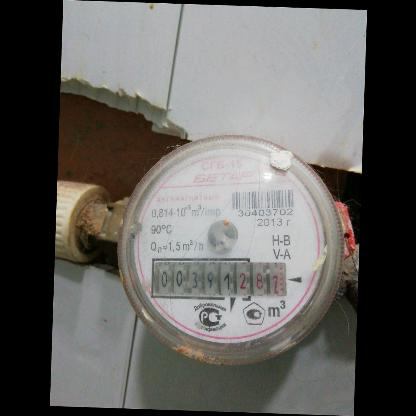digital_screen: (150, 256, 238, 300)
